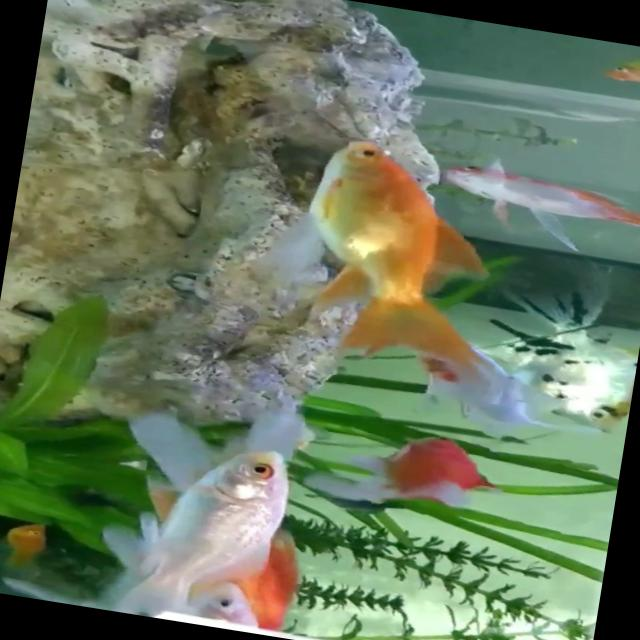GoldFish: (267, 125, 532, 392), (373, 432, 490, 514)
